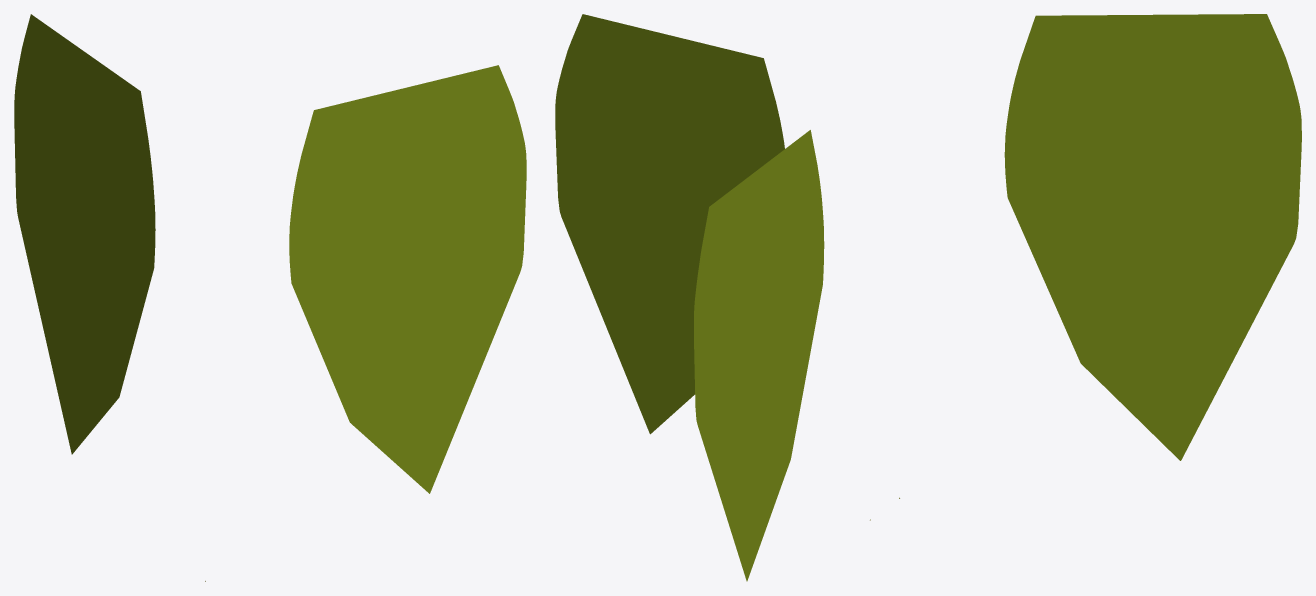
The model's file is grass.fbx.
3 views of the same model, side by side, from view 1: azimuth 30°, elevation 25°; view 2: azimuth 150°, elevation 25°; view 3: azimuth 270°, elevation 25° (orthographic). The views are drawn at different scales.
Parts seen in each view (by area): view 1: untitled_1_with_uv, untitled_1_with_uv.001; view 2: untitled_1_with_uv, untitled_1_with_uv.001; view 3: untitled_1_with_uv.001.
Part boxes in pixels (x1=…): untitled_1_with_uv: x1=205, y1=65, x2=526, y2=581; untitled_1_with_uv.001: x1=14, y1=14, x2=155, y2=454; untitled_1_with_uv: x1=555, y1=14, x2=870, y2=520; untitled_1_with_uv.001: x1=694, y1=130, x2=824, y2=581; untitled_1_with_uv.001: x1=1004, y1=14, x2=1301, y2=460.
Size of the model in its own units: 157326 by 204700 by 154930.
